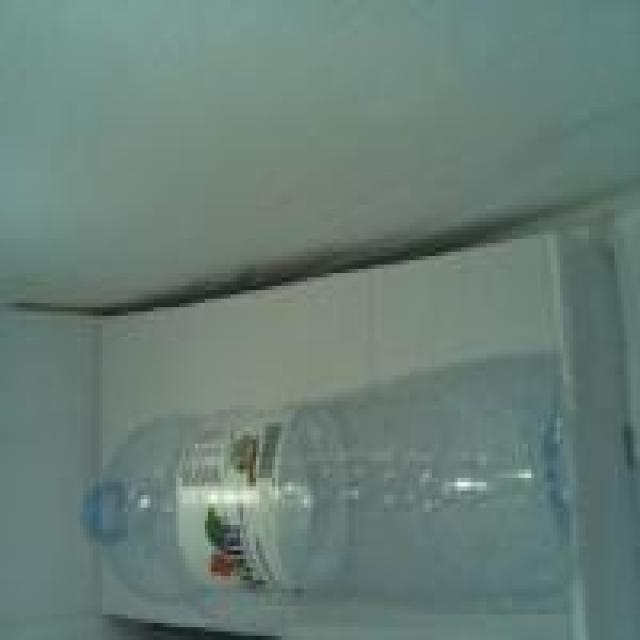Pet_Bottle: (79, 346, 566, 614)
